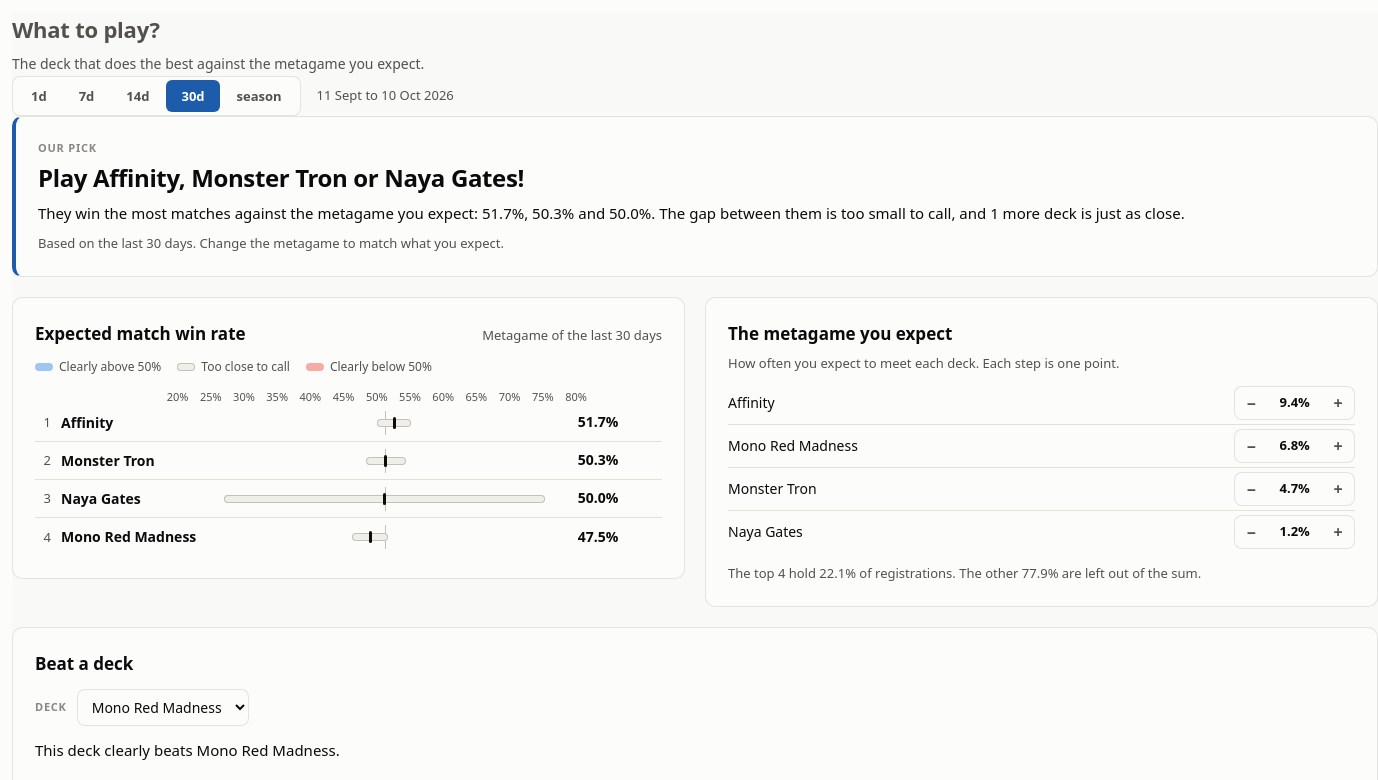
Test: WhatToPlayPage › opens Beat a deck on the deck the address names, and keeps it through a window change
Expected: the text "This deck clearly beats Mono Red Madness." is shown, [35,740,340,760]
Click the button "7d" at (87, 96), box [64,80,109,112]
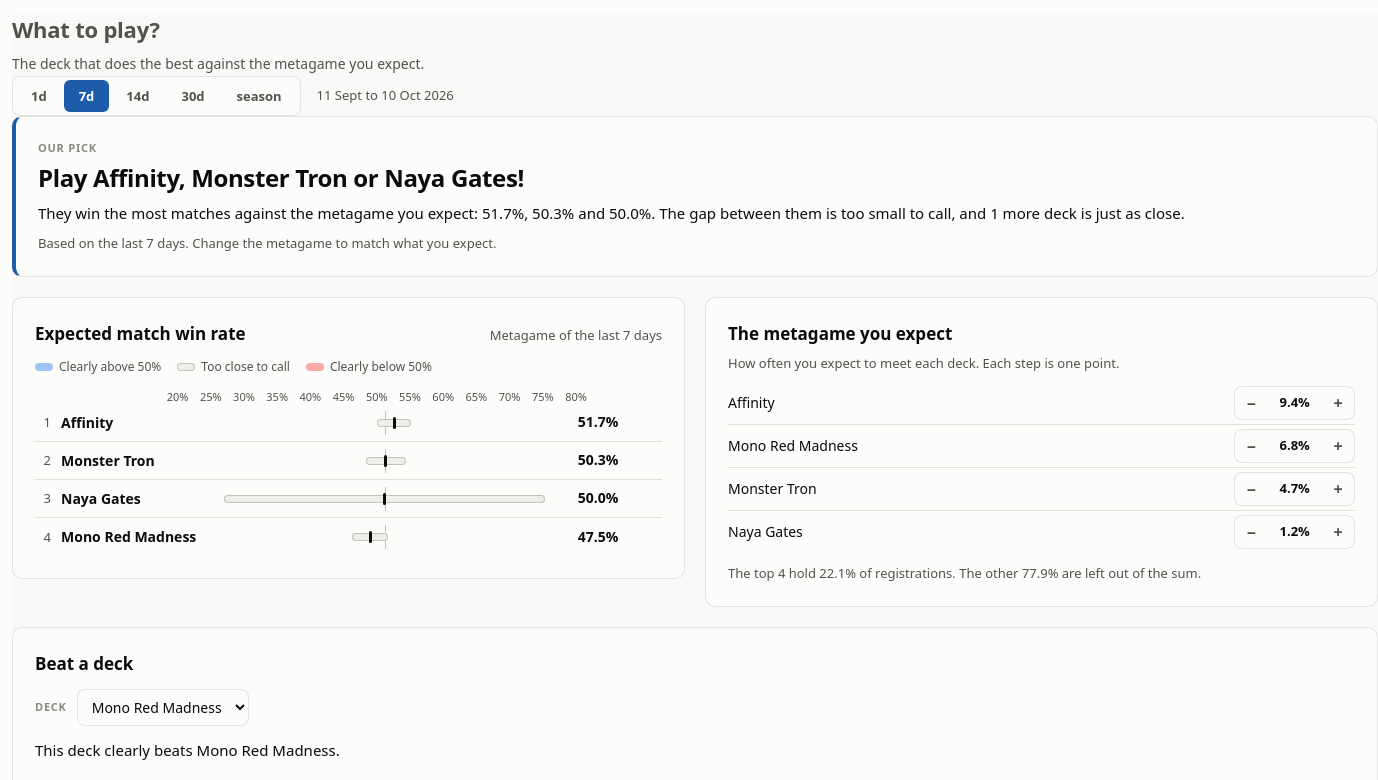
Expected: the text "This deck clearly beats Mono Red Madness." is shown, [35,740,340,760]
Now the text "Based on the last 7 days." is shown, box [38,234,496,252]
